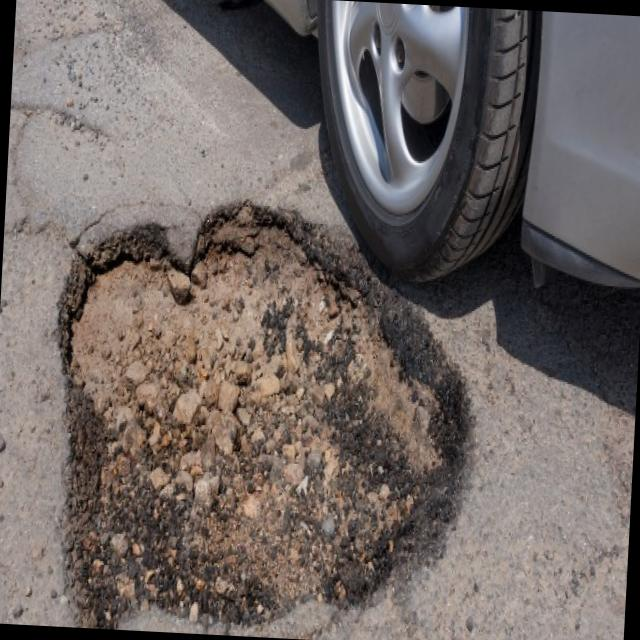Potholes: (1, 200, 485, 640)
